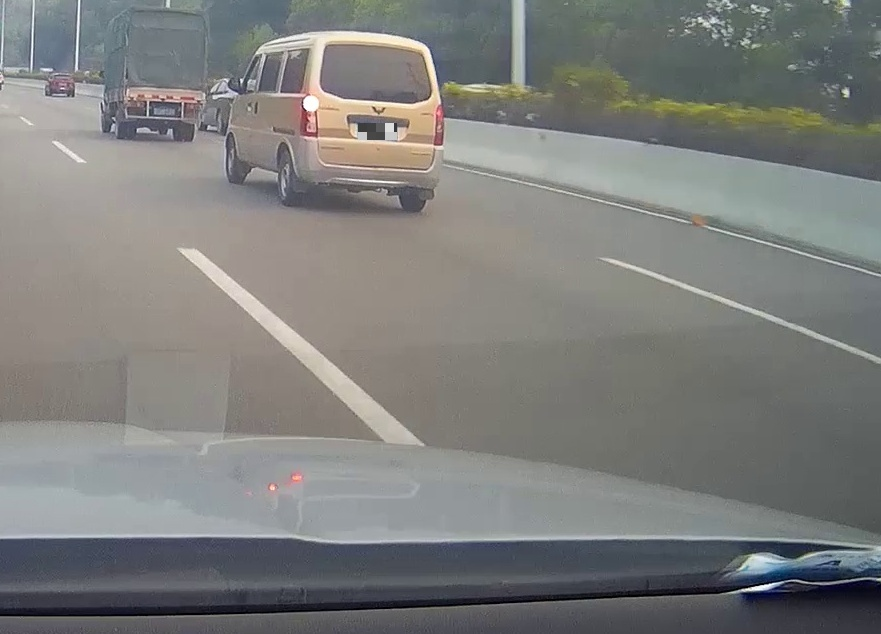L_light: (299, 94, 320, 138), (129, 100, 144, 107)
R_light: (433, 103, 444, 145), (187, 104, 202, 110)
T_light: (364, 45, 388, 50), (159, 95, 167, 99)
day-left: (296, 32, 445, 213)
day-no: (122, 3, 207, 142)
plate_1: (358, 123, 397, 140)
